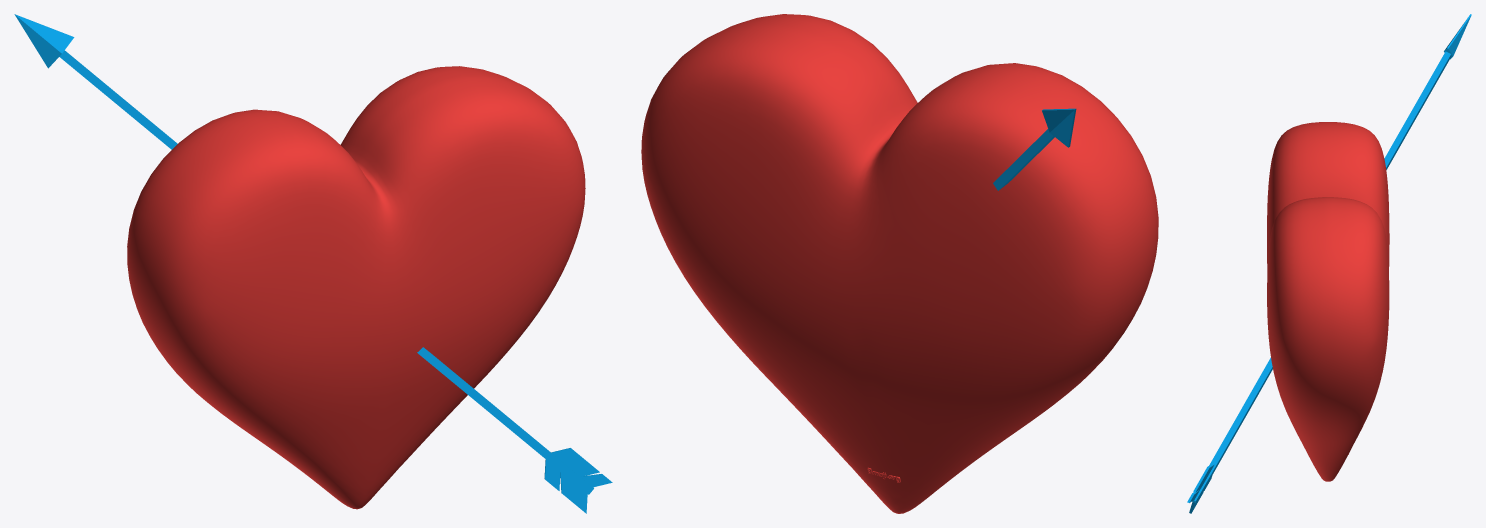
The model's file is heart_with_arrow.fbx.
The picture shows the model from 3 angles, left to right: view 1: azimuth 30°, elevation 25°; view 2: azimuth 150°, elevation 25°; view 3: azimuth 270°, elevation 25°; orthographic projection. The views are drawn at different scales.
Parts seen in each view (by area): view 1: hfdjkslfjkds.002; view 2: hfdjkslfjkds.002; view 3: hfdjkslfjkds.002.
Part boxes in pixels (x1,y1,x2,y2): hfdjkslfjkds.002: [14, 14, 612, 513]; hfdjkslfjkds.002: [641, 14, 1158, 513]; hfdjkslfjkds.002: [1187, 14, 1471, 513].
Bounding box in the file's own units: 200 × 200 × 138.
Materials: 1 (1 with a texture image).
